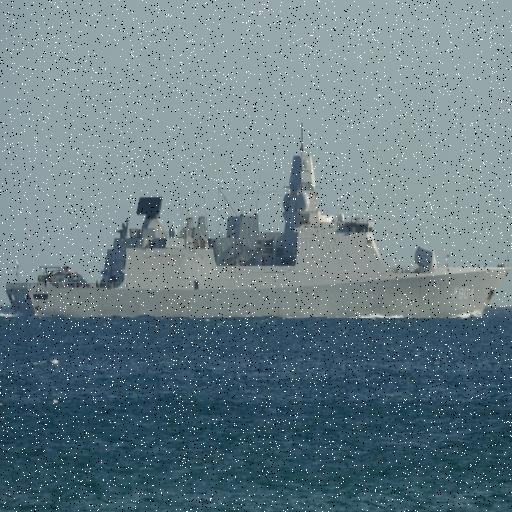Fragata: (4, 117, 512, 323)
